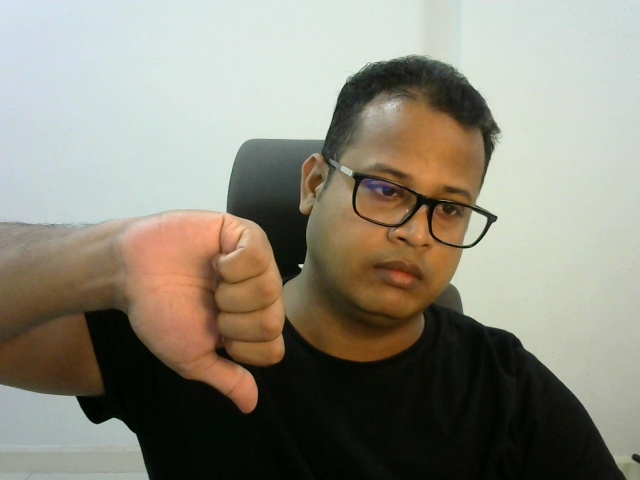ThumbsDown: (121, 209, 288, 417)
